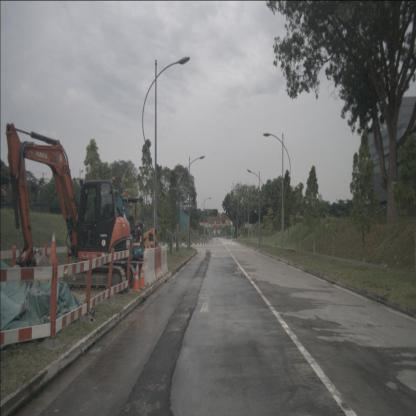movable_object-barrier: (144, 246, 154, 286), (155, 245, 164, 281), (161, 245, 168, 276)
movable_object-trafficcone: (46, 228, 61, 268), (132, 259, 142, 293), (139, 257, 146, 289)
